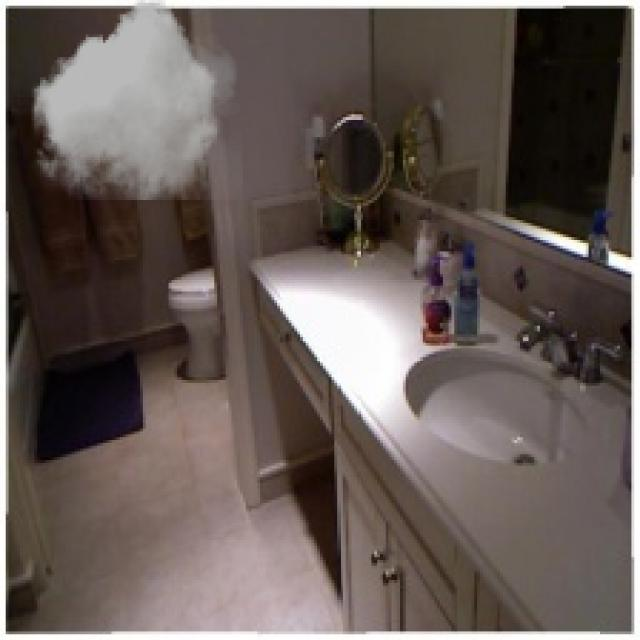smoke: (28, 0, 243, 200)
